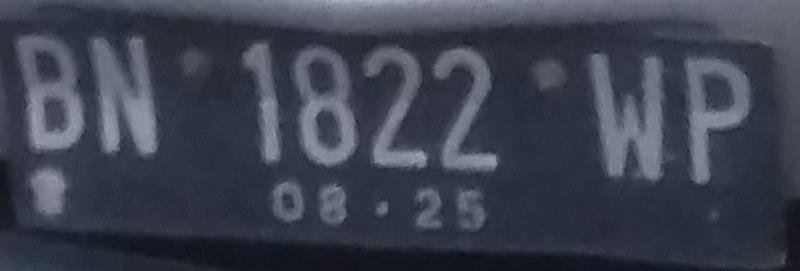1: (236, 34, 286, 170)
2: (356, 36, 432, 172), (431, 41, 503, 172)
8: (286, 37, 356, 169)
B: (9, 29, 87, 160)
N: (87, 27, 160, 159)
P: (674, 47, 762, 184)
W: (579, 41, 676, 185)
